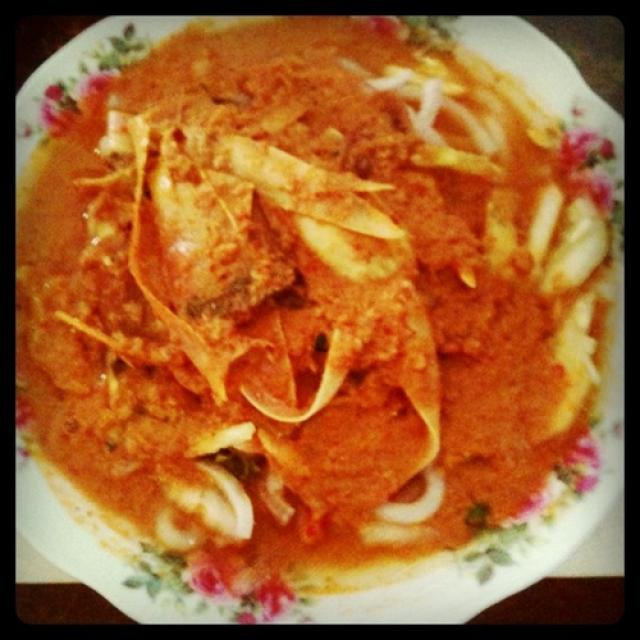面条主食: (15, 15, 626, 608)
